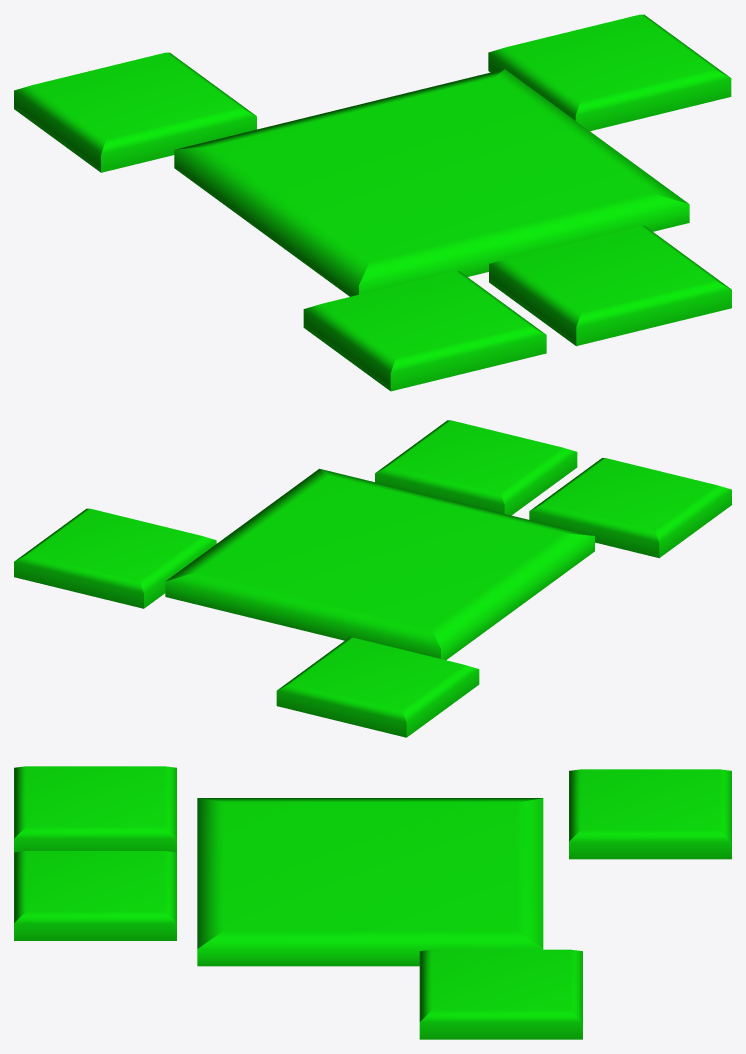
The model's file is m_rubble2.fbx.
3 views of the same model, one above another, from view 1: azimuth 30°, elevation 25°; view 2: azimuth 150°, elevation 25°; view 3: azimuth 270°, elevation 25° (orthographic). The views are drawn at different scales.
Visible parts, largest first — view 1: m_rubble2; view 2: m_rubble2; view 3: m_rubble2.
Part boxes in pixels (x1,y1,x2,y2): m_rubble2: [14, 14, 731, 391]; m_rubble2: [14, 420, 731, 737]; m_rubble2: [14, 766, 731, 1039].
Bounding box in the file's own units: 1.74 × 0.0774 × 2.08.
